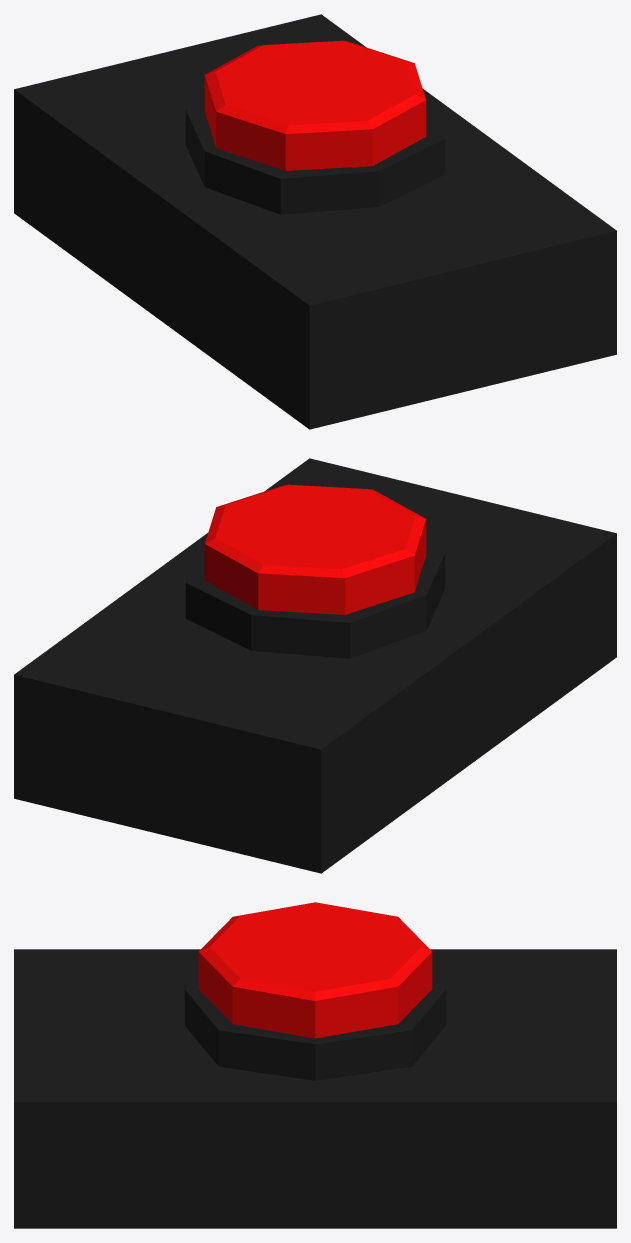
File: fIK34Yaek_W.glb
The picture shows the model from 3 angles, top to bottom: view 1: azimuth 30°, elevation 25°; view 2: azimuth 150°, elevation 25°; view 3: azimuth 270°, elevation 25°; orthographic projection.
Visible parts, largest first — view 1: Node; view 2: Node; view 3: Node.
Boxes of the visible parts, x1,y1,x2,y2 form: Node: (14,14,616,429); Node: (14,458,616,873); Node: (14,902,616,1228).
Size of the model in its own units: 1.6 by 0.9999 by 2.67.
